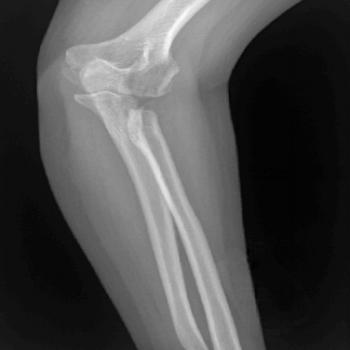Fracture: (111, 86, 182, 122)
